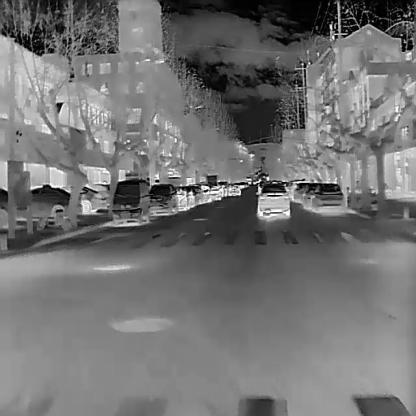car: (25, 184, 80, 220), (110, 178, 150, 226), (56, 184, 103, 213), (254, 181, 290, 215), (310, 183, 345, 213), (146, 182, 177, 215), (291, 180, 325, 203), (301, 182, 320, 210), (174, 186, 187, 211), (183, 185, 196, 207), (192, 185, 204, 204), (228, 184, 239, 195)
